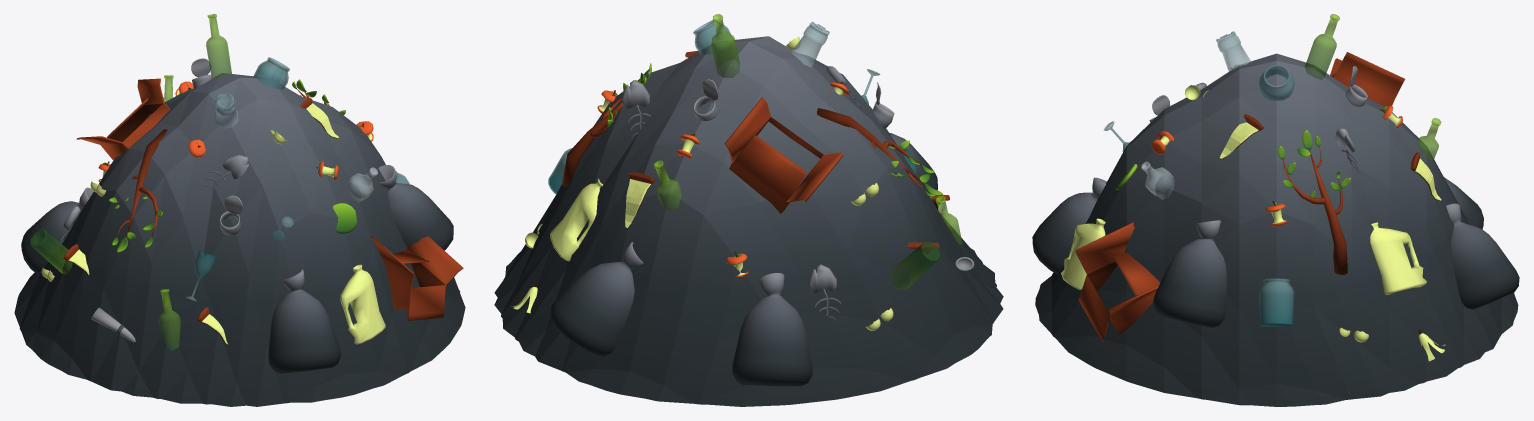
Rendered from Basura_VF.fbx.
3 renders of one model, left to right at view 1: azimuth 30°, elevation 25°; view 2: azimuth 150°, elevation 25°; view 3: azimuth 270°, elevation 25°, orthographic. The views are drawn at different scales.
Visible parts, largest first — view 1: Basura; view 2: Basura; view 3: Basura.
Part boxes in pixels (x1,y1,x2,y2): Basura: (14, 14, 465, 406); Basura: (494, 14, 1003, 406); Basura: (1032, 14, 1519, 406).
Bounding box in the file's own units: 8.06 × 5.35 × 8.12.
